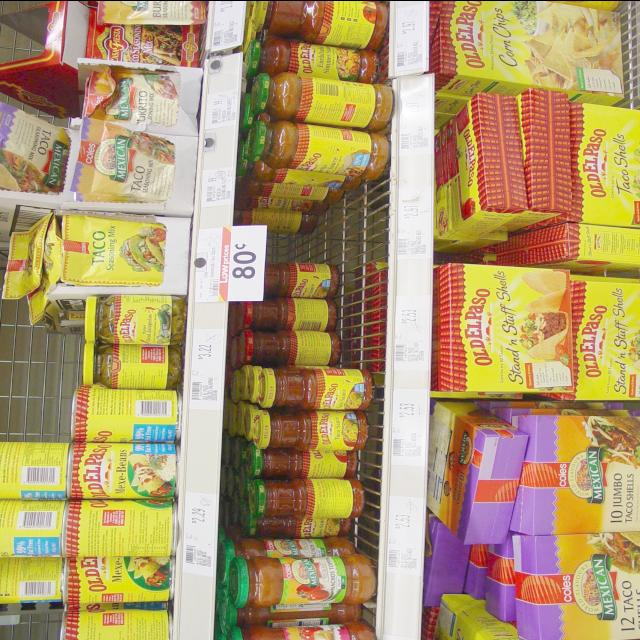empty_space: (343, 193, 397, 351), (3, 332, 65, 425)
